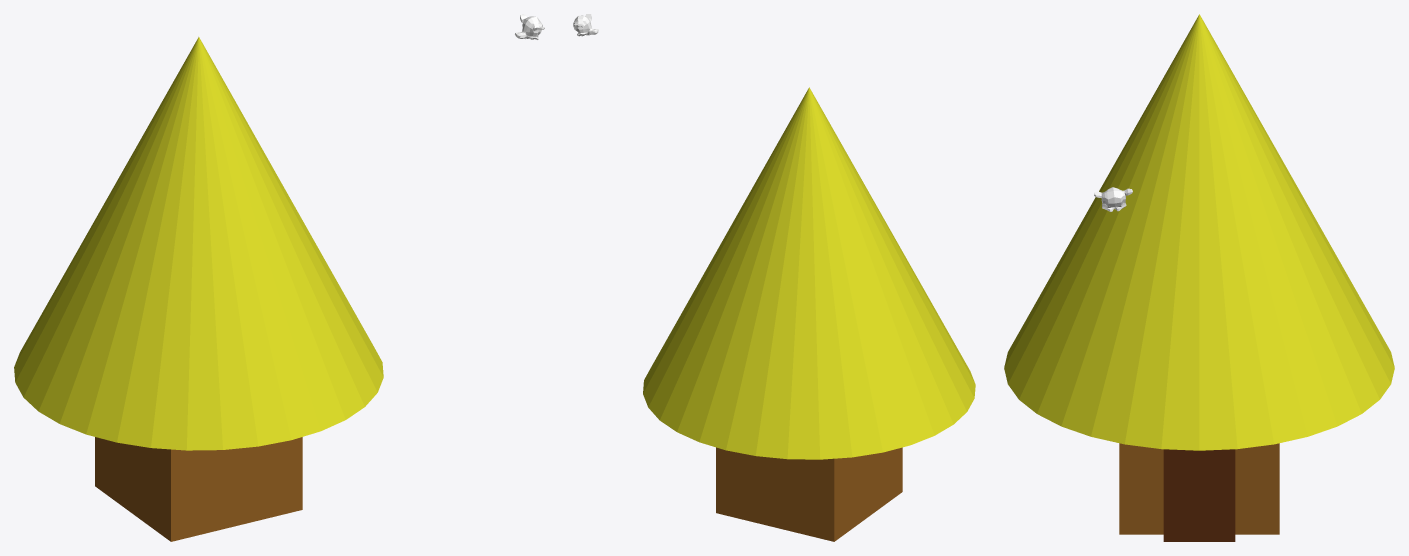
The model's file is shop.glb.
3 renders of one model, left to right at view 1: azimuth 30°, elevation 25°; view 2: azimuth 150°, elevation 25°; view 3: azimuth 270°, elevation 25°, orthographic. The views are drawn at different scales.
Visible parts, largest first — view 1: Roof?, DefaultCube; view 2: Roof?, DefaultCube; view 3: Roof?, DefaultCube, Door, Suzanne.
Boxes of the visible parts, bbox=[...] form: Roof?: bbox=[14, 37, 383, 450]; DefaultCube: bbox=[95, 437, 302, 541]; Roof?: bbox=[643, 87, 975, 459]; DefaultCube: bbox=[716, 447, 902, 541]; Roof?: bbox=[1004, 14, 1394, 450]; DefaultCube: bbox=[1119, 443, 1279, 534]; Door: bbox=[1163, 449, 1235, 541]; Suzanne: bbox=[1094, 187, 1132, 211].
Bounding box in the file's own units: 39.13 × 37.76 × 27.24.
